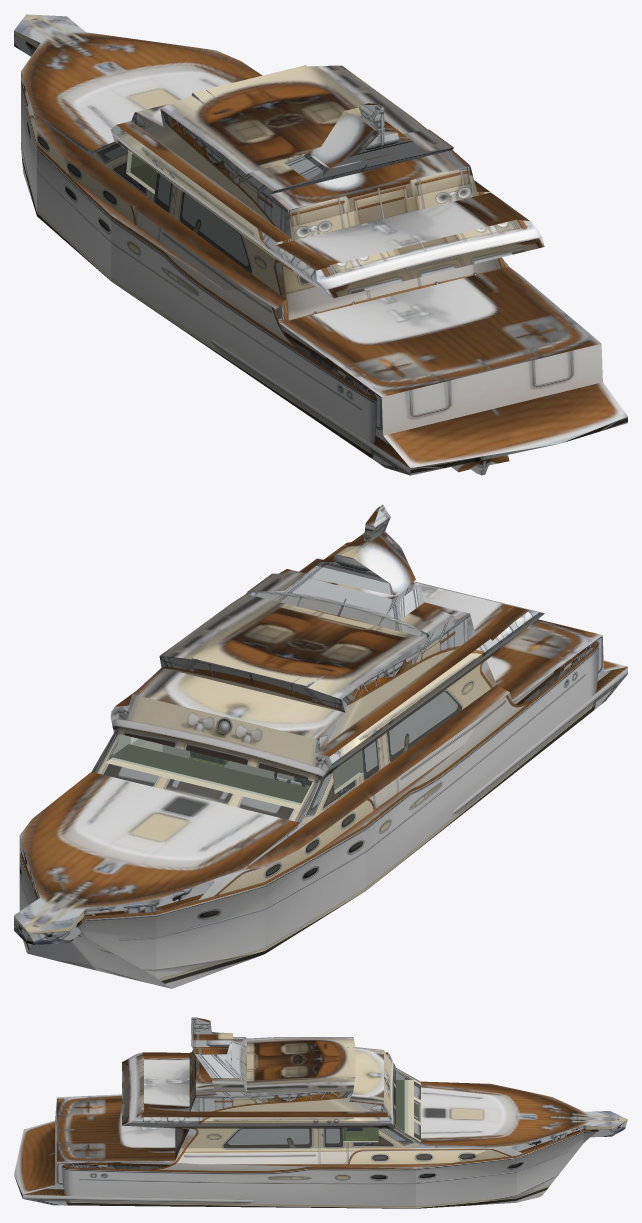
The model's file is cabin_cruiser.glb.
The picture shows the model from 3 angles, top to bottom: view 1: azimuth 30°, elevation 25°; view 2: azimuth 150°, elevation 25°; view 3: azimuth 270°, elevation 25°; orthographic projection. The views are drawn at different scales.
Visible parts, largest first — view 1: cabin_cruiser, cabin_cruiser_cabin; view 2: cabin_cruiser, cabin_cruiser_cabin; view 3: cabin_cruiser, cabin_cruiser_cabin.
Part boxes in pixels (x1,y1,x2,y2): cabin_cruiser: (14, 14, 627, 475); cabin_cruiser_cabin: (126, 150, 156, 193); cabin_cruiser: (14, 504, 627, 988); cabin_cruiser_cabin: (110, 735, 362, 804); cabin_cruiser: (14, 1017, 627, 1208); cabin_cruiser_cabin: (343, 1070, 407, 1141).
Size of the model in its own units: 3.5 by 3.95 by 11.99.
10 materials, 4 textured.
